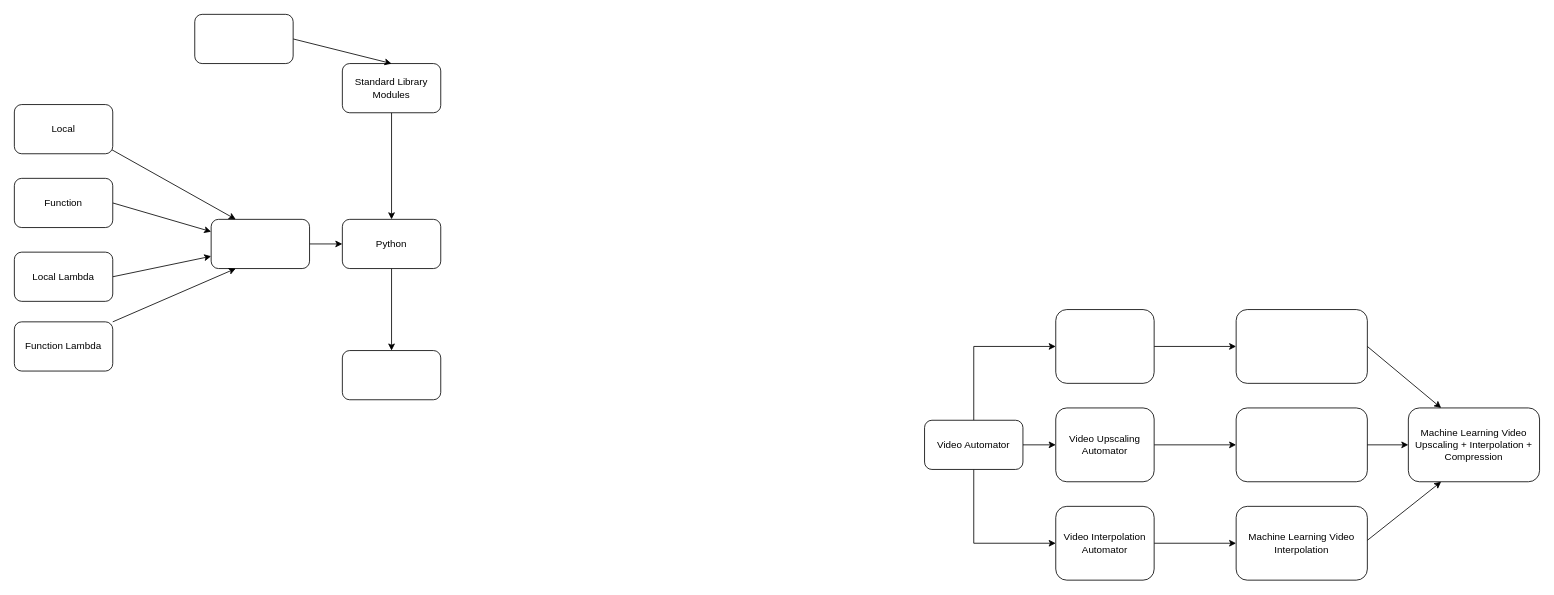
Some shapes in this 1554 by 595 pixel diagram are drawn without their labels. Each missing label, with the centre of its shape:
"Function Calls" goes at (x=260, y=244).
"functools.lru_cache" goes at (x=243, y=39).
"Machine Learning Video Compression" goes at (x=1301, y=346).
"Machine Learning Video Upscaling" goes at (x=1301, y=444).
"Optimization" goes at (x=391, y=375).
"Video Compression Automator" goes at (x=1104, y=346).
